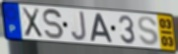3: (117, 14, 137, 46)
A: (89, 12, 114, 44)
J: (70, 10, 88, 42)
S: (42, 8, 65, 41), (137, 16, 160, 48)
X: (20, 6, 44, 39)
